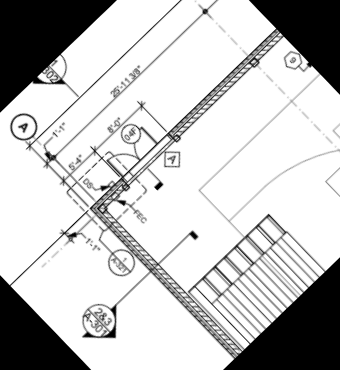double door: (105, 124, 163, 181)
wall: (85, 201, 240, 361), (95, 200, 245, 356), (169, 32, 287, 146), (164, 28, 280, 140), (86, 175, 130, 218)
